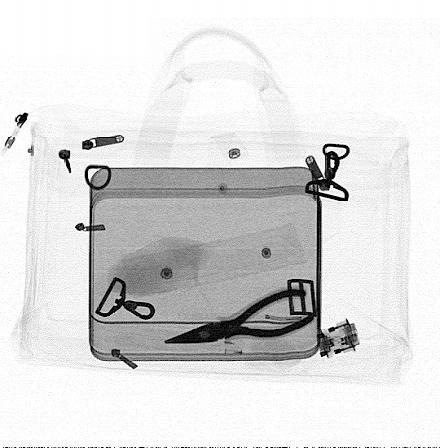Pliers: (160, 288, 316, 344)
